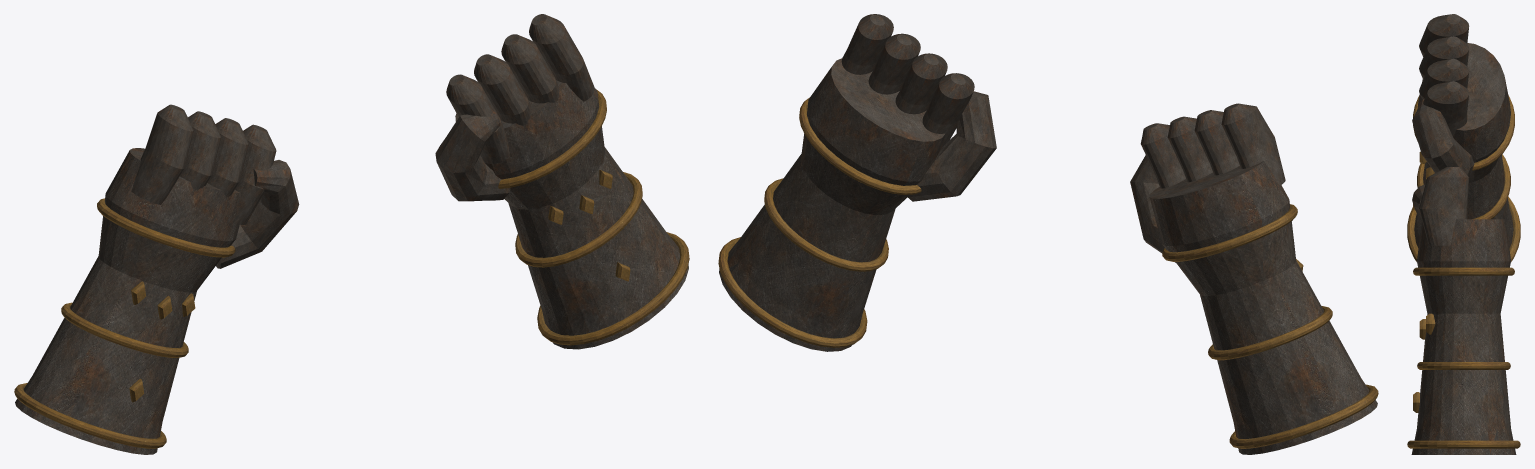
Rendered from giant_gauntlets.obj.
3 renders of one model, left to right at view 1: azimuth 30°, elevation 25°; view 2: azimuth 150°, elevation 25°; view 3: azimuth 270°, elevation 25°, orthographic. The views are drawn at different scales.
Visible parts, largest first — view 1: left_shell, right_shell, right_thumb, left_finger3, left_thumb, right_finger0, right_finger2, right_finger1, right_finger3, right_trim2, left_finger0, left_finger2 (+6 smaller); view 2: left_shell, right_shell, right_thumb, left_finger3, right_finger3, right_trim2, right_finger2, right_finger1, right_finger0, left_finger2, left_finger1, left_finger0 (+6 smaller); view 3: right_shell, left_shell, right_finger0, left_thumb, left_finger0, left_finger2, left_finger3, left_finger1, right_trim2, right_trim0, left_trim2, right_trim1 (+6 smaller).
Boxes of the visible parts, box(x1,y1,x2,y2) form: left_shell: box(15, 148, 240, 454); right_shell: box(455, 80, 688, 349); right_thumb: box(435, 110, 510, 201); left_finger3: box(131, 104, 193, 204); left_thumb: box(216, 160, 299, 268); right_finger0: box(529, 14, 594, 101); right_finger2: box(474, 54, 531, 125); right_finger1: box(501, 34, 559, 103); right_finger3: box(446, 74, 509, 163); right_trim2: box(537, 232, 689, 345); left_finger0: box(235, 124, 276, 224); left_finger2: box(180, 111, 221, 189); left_shell: box(1149, 161, 1377, 454); right_shell: box(719, 58, 945, 351); right_thumb: box(907, 91, 996, 201); left_finger3: box(1221, 103, 1285, 185); right_finger3: box(922, 73, 974, 146); right_trim2: box(718, 237, 867, 347); right_finger2: box(895, 53, 947, 114); right_finger1: box(868, 33, 920, 94); right_finger0: box(841, 14, 893, 74); left_finger2: box(1194, 110, 1239, 175); left_finger1: box(1167, 116, 1212, 181); left_finger0: box(1140, 123, 1185, 188); right_shell: box(1411, 219, 1516, 454); left_shell: box(1414, 43, 1513, 247); right_finger0: box(1419, 167, 1469, 245); left_thumb: box(1412, 99, 1474, 176); left_finger0: box(1423, 81, 1469, 137); left_finger2: box(1419, 36, 1469, 78); left_finger3: box(1419, 14, 1469, 56); left_finger1: box(1419, 59, 1469, 99); right_trim2: box(1407, 440, 1520, 448); right_trim0: box(1413, 267, 1514, 275); left_trim2: box(1407, 196, 1520, 261); right_trim1: box(1417, 362, 1510, 369).
Size of the model in its own units: 110 by 54.01 by 19.72.
Materials: 3 (3 with a texture image).
